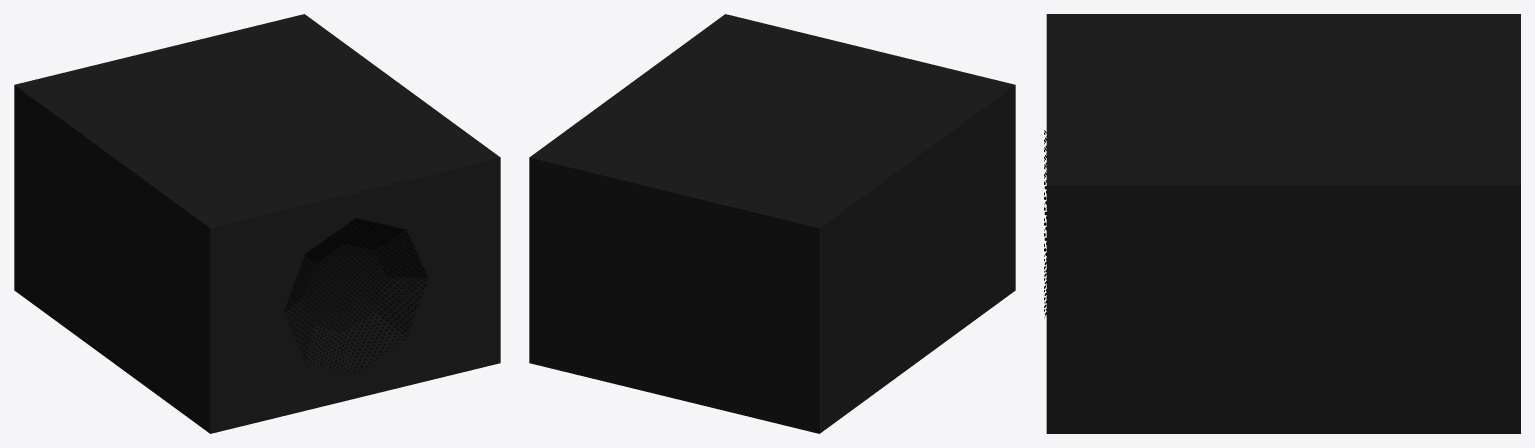
File: Itr_Obj_Speaker1_Top_02.FBX
3 views of the same model, side by side, from view 1: azimuth 30°, elevation 25°; view 2: azimuth 150°, elevation 25°; view 3: azimuth 270°, elevation 25° (orthographic). The views are drawn at different scales.
Parts seen in each view (by area): view 1: Itr_Obj_Speaker1_Top_02; view 2: Itr_Obj_Speaker1_Top_02; view 3: Itr_Obj_Speaker1_Top_02.
Boxes of the visible parts, x1,y1,x2,y2 form: Itr_Obj_Speaker1_Top_02: (14,14,500,433); Itr_Obj_Speaker1_Top_02: (529,14,1015,433); Itr_Obj_Speaker1_Top_02: (1044,14,1520,433).
Bounding box in the file's own units: 9.88 × 6.69 × 11.62.
